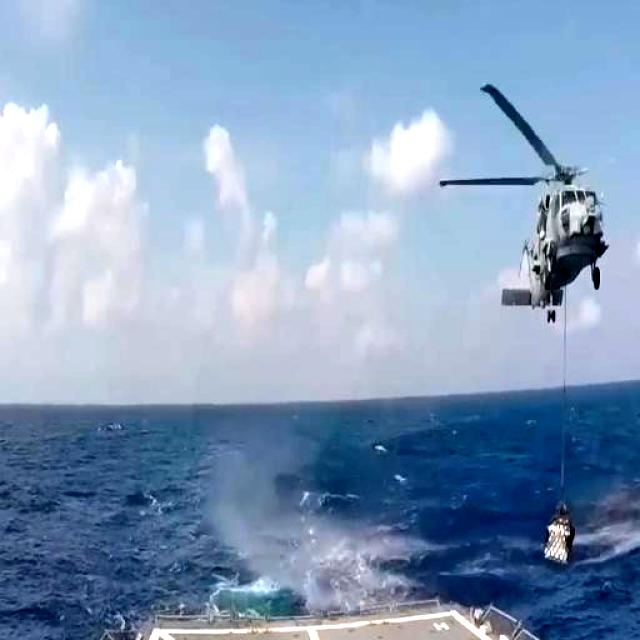drone: (435, 78, 640, 322)
